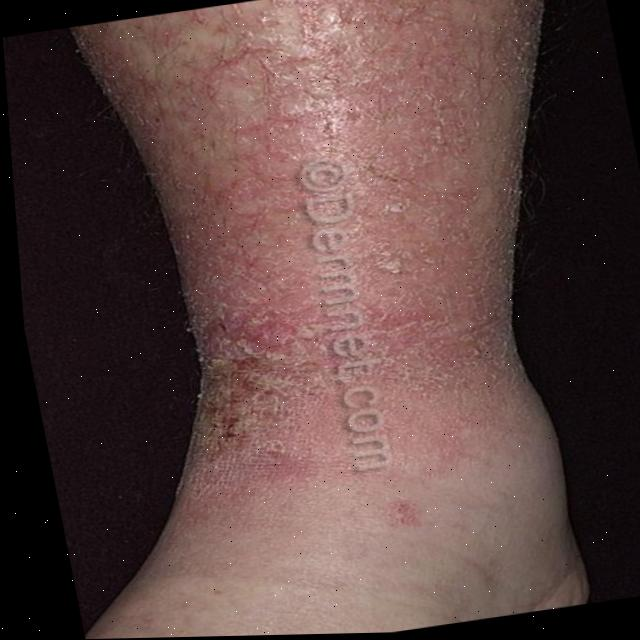Eczema: (102, 0, 634, 509)
